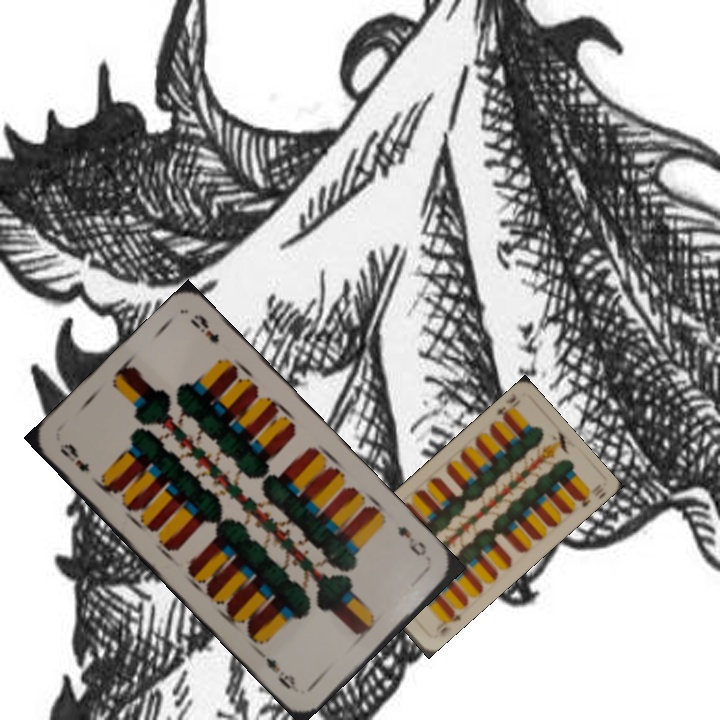E10: (429, 605, 464, 641), (492, 390, 519, 423)
E9: (55, 439, 93, 475), (393, 522, 429, 559)
